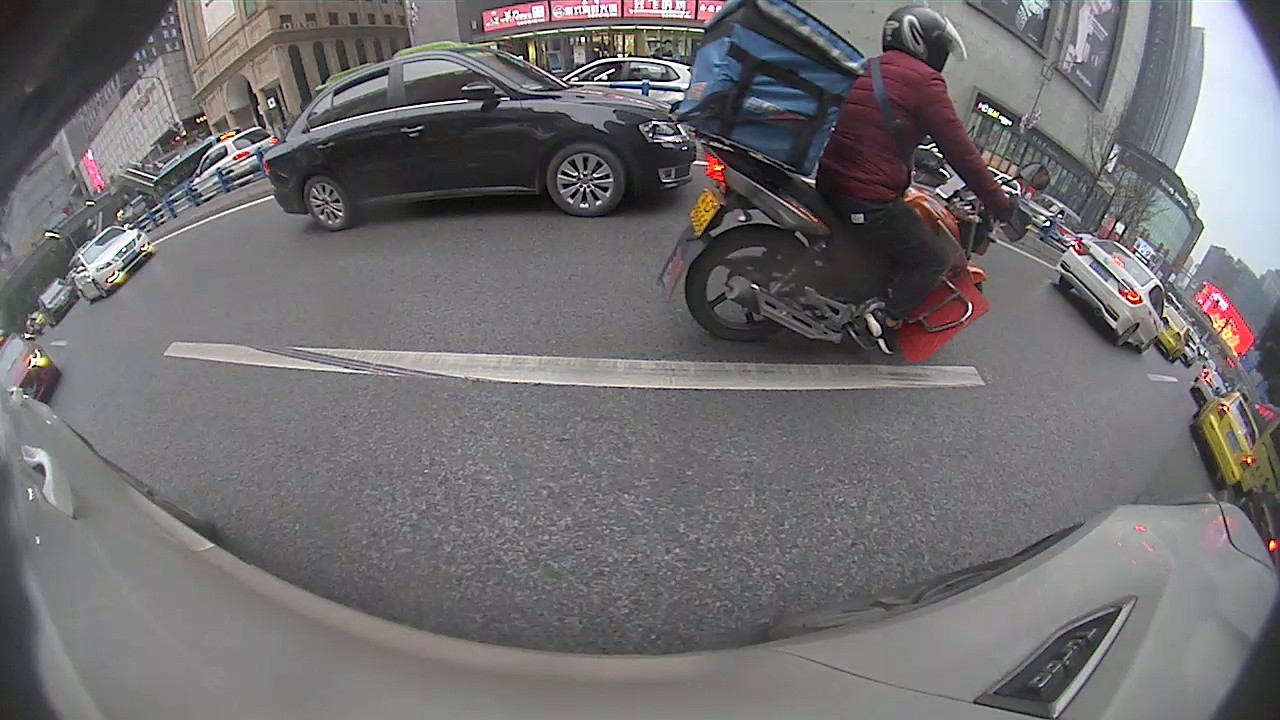car: (261, 44, 700, 234), (1053, 236, 1171, 357), (66, 224, 154, 307)
front: (547, 142, 624, 220)
rear: (688, 221, 813, 342), (301, 173, 352, 231), (1116, 322, 1139, 349)
rider: (652, 1, 1053, 361)
